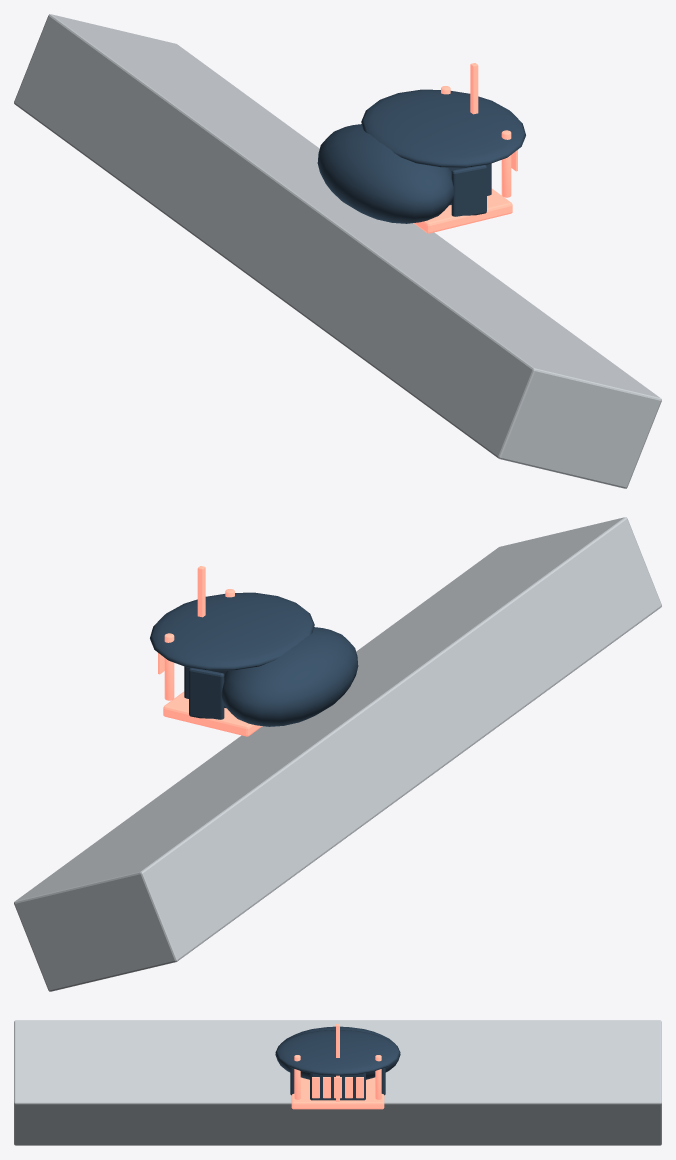
The model's file is Titan_RedCitadel.fbx.
3 renders of one model, top to bottom at view 1: azimuth 30°, elevation 25°; view 2: azimuth 150°, elevation 25°; view 3: azimuth 270°, elevation 25°, orthographic. The views are drawn at different scales.
Parts seen in each view (by area): view 1: RedBackfield, Red_RoofCanopy, Red_RearHull, Red_Wing_-1, Red_Platform; view 2: RedBackfield, Red_RoofCanopy, Red_RearHull, Red_Wing_1, Red_Platform; view 3: RedBackfield, Red_RoofCanopy, Red_Platform, Red_RearHull, Red_Citadel, Red_EnergyPylon_-1, Red_EnergyPylon_1.
Boxes of the visible parts, bbox=[...] form: RedBackfield: bbox=[14, 14, 661, 488]; Red_RoofCanopy: bbox=[361, 89, 525, 167]; Red_RearHull: bbox=[317, 124, 454, 223]; Red_Wing_-1: bbox=[451, 165, 486, 216]; Red_Platform: bbox=[413, 188, 512, 233]; RedBackfield: bbox=[14, 517, 661, 991]; Red_RoofCanopy: bbox=[150, 592, 314, 670]; Red_RearHull: bbox=[221, 627, 358, 726]; Red_Wing_1: bbox=[189, 668, 224, 719]; Red_Platform: bbox=[163, 691, 262, 736]; RedBackfield: bbox=[14, 1020, 661, 1145]; Red_RoofCanopy: bbox=[275, 1030, 400, 1075]; Red_Platform: bbox=[291, 1077, 384, 1109]; Red_RearHull: bbox=[275, 1026, 400, 1079]; Red_Citadel: bbox=[310, 1073, 365, 1100]; Red_EnergyPylon_-1: bbox=[294, 1055, 300, 1099]; Red_EnergyPylon_1: bbox=[375, 1055, 381, 1099].
Size of the model in its own units: 1335 by 1125 by 4400.
